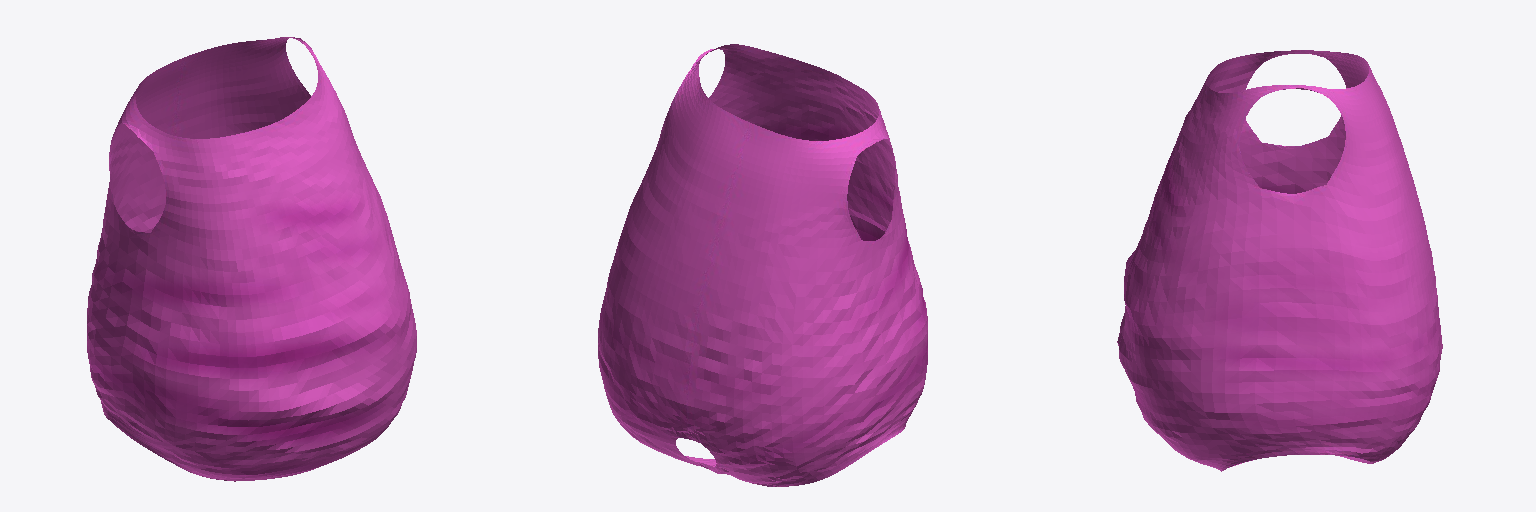
3 renders of one model, left to right at view 1: azimuth 30°, elevation 25°; view 2: azimuth 150°, elevation 25°; view 3: azimuth 270°, elevation 25°, orthographic.
Parts seen in each view (by area): view 1: Group17; view 2: Group17; view 3: Group17.
Boxes of the visible parts, x1=… form: Group17: x1=87, y1=37, x2=416, y2=481; Group17: x1=598, y1=44, x2=927, y2=486; Group17: x1=1117, y1=50, x2=1442, y2=471.
Size of the model in its own units: 19.24 by 26.16 by 19.64.
1 materials, 1 textured.